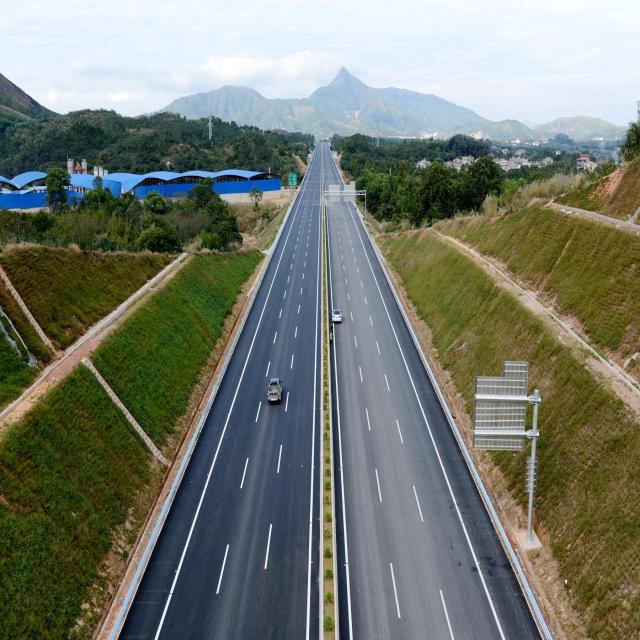point: (309, 125, 336, 155)
